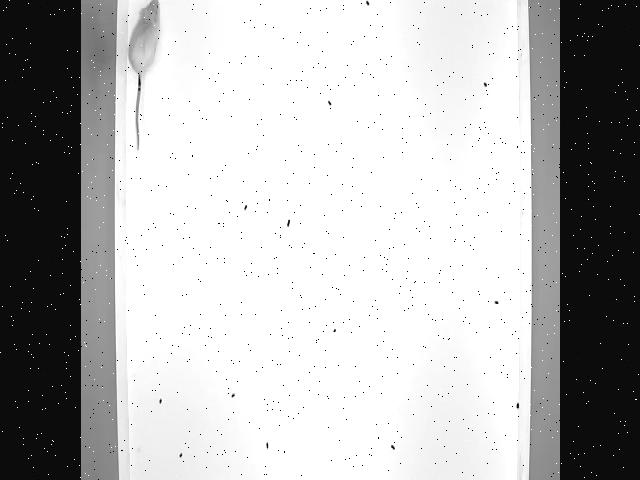Tikus: (126, 0, 160, 150)
